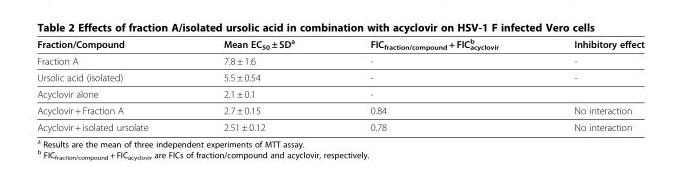table: (36, 36, 643, 132)
table column: (331, 36, 535, 132), (36, 36, 185, 132), (185, 36, 331, 132), (535, 36, 643, 132)
table column header: (36, 36, 643, 52)
table row: (36, 68, 643, 85), (36, 101, 643, 118), (36, 36, 643, 52), (36, 52, 643, 68), (36, 85, 643, 101), (36, 118, 643, 132)
